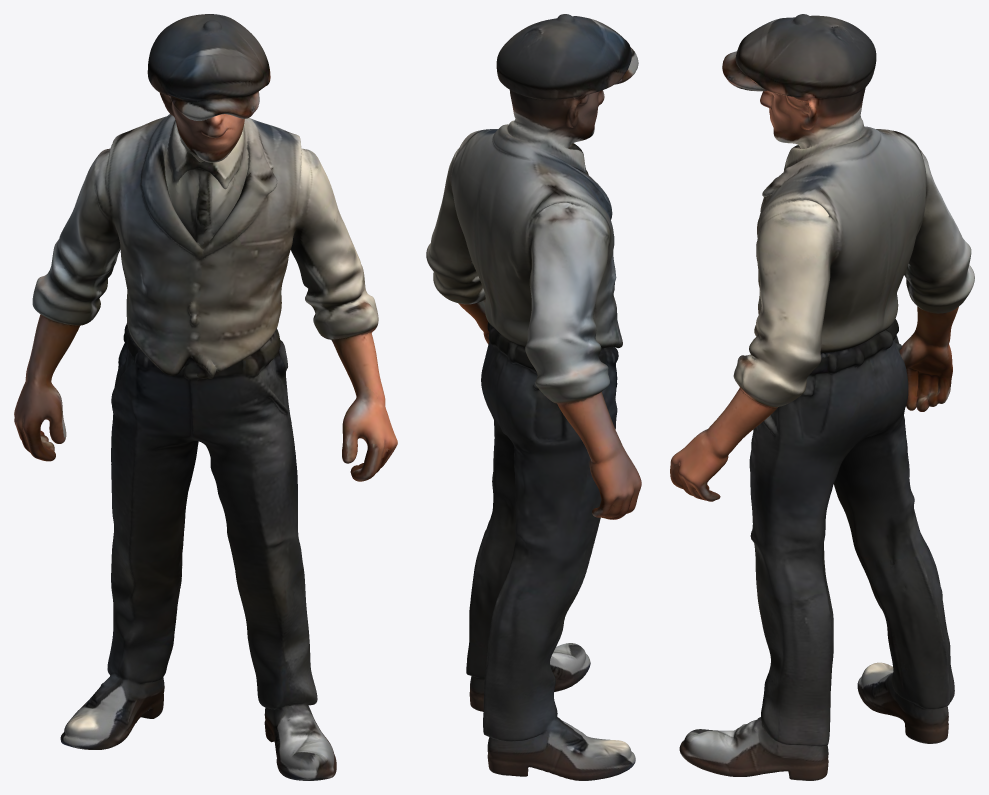
File: Syndykat.glb
3 renders of one model, left to right at view 1: azimuth 30°, elevation 25°; view 2: azimuth 150°, elevation 25°; view 3: azimuth 270°, elevation 25°, orthographic. The views are drawn at different scales.
Visible parts, largest first — view 1: tripo_node_48f11a5d-92bd-4cd1-9068-c44daab2181f; view 2: tripo_node_48f11a5d-92bd-4cd1-9068-c44daab2181f; view 3: tripo_node_48f11a5d-92bd-4cd1-9068-c44daab2181f.
Part boxes in pixels (x1=…): tripo_node_48f11a5d-92bd-4cd1-9068-c44daab2181f: x1=14, y1=14, x2=397, y2=780; tripo_node_48f11a5d-92bd-4cd1-9068-c44daab2181f: x1=426, y1=14, x2=641, y2=780; tripo_node_48f11a5d-92bd-4cd1-9068-c44daab2181f: x1=670, y1=14, x2=974, y2=780.
Size of the model in its own units: 0.3998 by 1 by 0.3819.
1 material, 1 textured.
